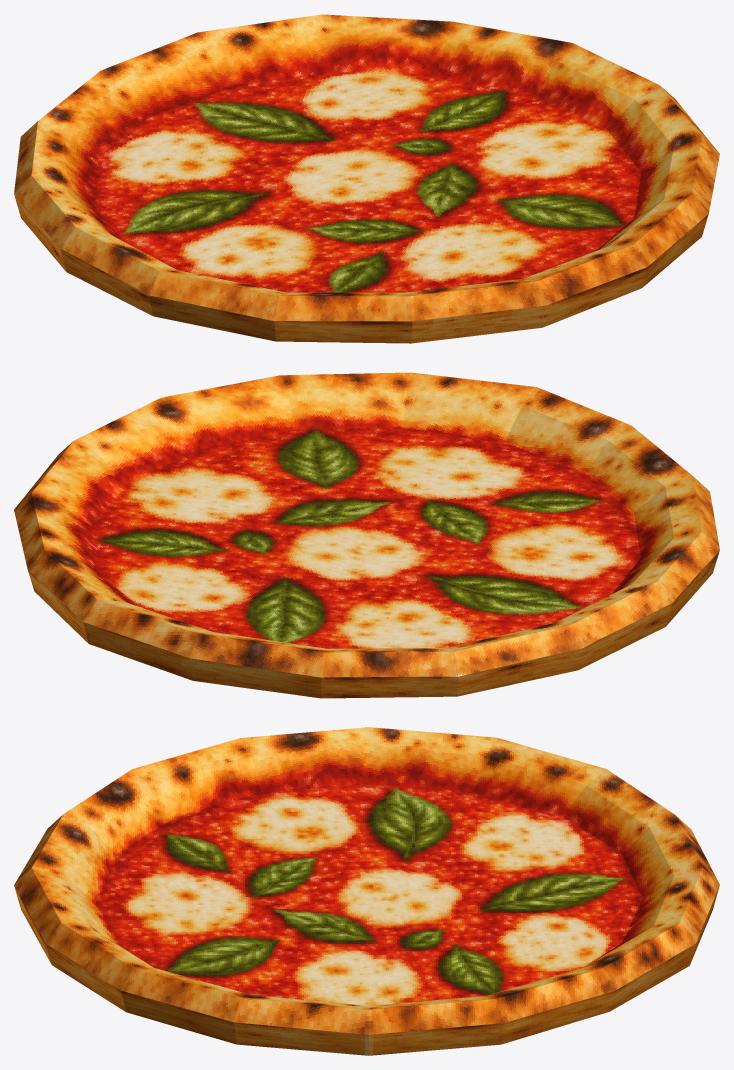
The model's file is neapolitan_pizza.glb.
The picture shows the model from 3 angles, top to bottom: view 1: azimuth 30°, elevation 25°; view 2: azimuth 150°, elevation 25°; view 3: azimuth 270°, elevation 25°; orthographic projection.
Visible parts, largest first — view 1: NeapolitanPizza; view 2: NeapolitanPizza; view 3: NeapolitanPizza.
Boxes of the visible parts, left/top/right/bottom form: NeapolitanPizza: left=14, top=14, right=719, bottom=343; NeapolitanPizza: left=14, top=372, right=719, bottom=698; NeapolitanPizza: left=14, top=727, right=719, bottom=1055.
Size of the model in its own units: 2 by 0.1335 by 2.01.
Materials: 1 (1 with a texture image).
